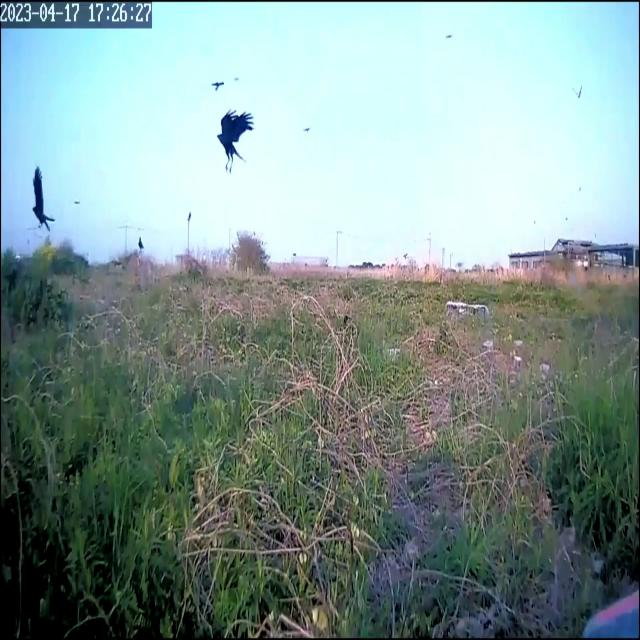bird: (214, 86, 255, 201), (210, 70, 227, 103), (571, 77, 583, 107)
